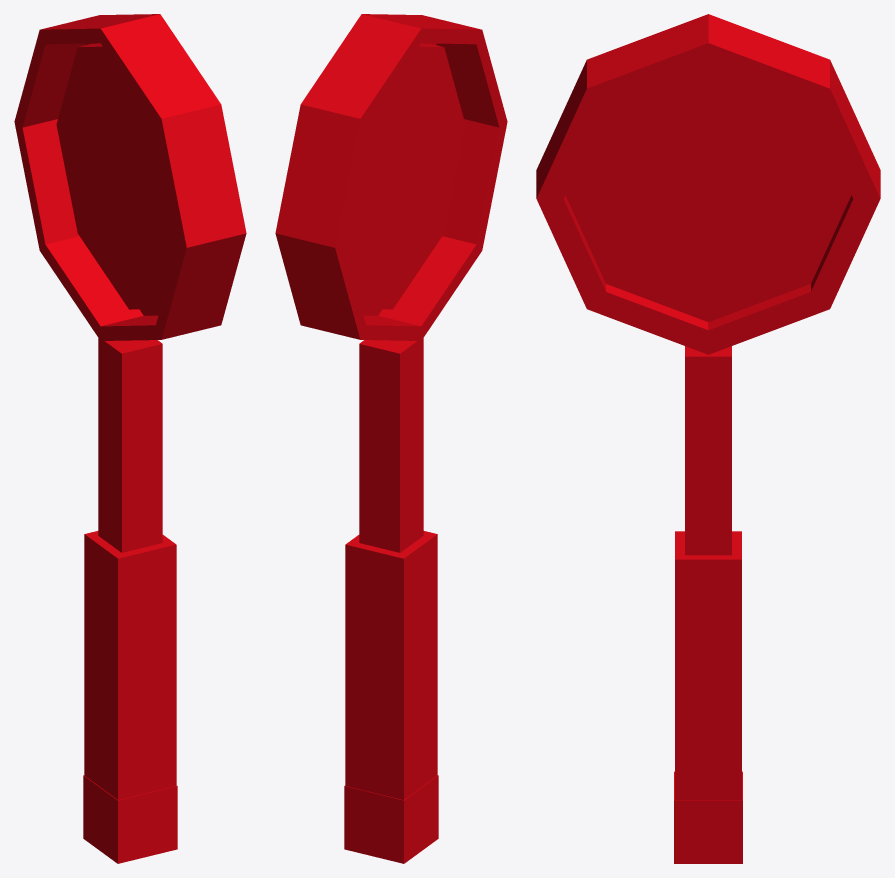
Rendered from stopSign.fbx.
3 renders of one model, left to right at view 1: azimuth 30°, elevation 25°; view 2: azimuth 150°, elevation 25°; view 3: azimuth 270°, elevation 25°, orthographic.
Visible parts, largest first — view 1: Cube; view 2: Cube; view 3: Cube.
Boxes of the visible parts, left/top/right/bottom form: Cube: left=14, top=14, right=246, bottom=863; Cube: left=275, top=14, right=507, bottom=863; Cube: left=536, top=14, right=880, bottom=863.
Size of the model in its own units: 20 by 263 by 100.
